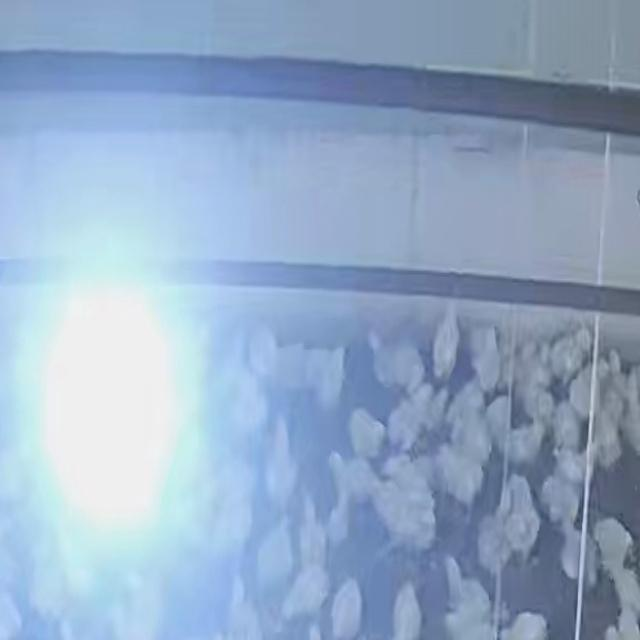chicken: (366, 465, 436, 549), (480, 388, 548, 468), (438, 553, 494, 639), (388, 384, 440, 452), (365, 327, 422, 389), (498, 475, 542, 555), (511, 348, 555, 423), (328, 448, 382, 506), (436, 445, 484, 501), (592, 514, 636, 574), (554, 514, 592, 582), (304, 344, 345, 406), (541, 474, 584, 530), (277, 571, 332, 614), (467, 326, 501, 392), (432, 306, 462, 378), (328, 576, 364, 636), (475, 517, 512, 575), (347, 407, 386, 459), (449, 380, 488, 432), (324, 480, 356, 543), (618, 366, 640, 456), (392, 582, 422, 640), (546, 333, 584, 378), (551, 402, 584, 452), (610, 566, 640, 618), (552, 450, 586, 489), (381, 449, 417, 483), (410, 452, 441, 491)
